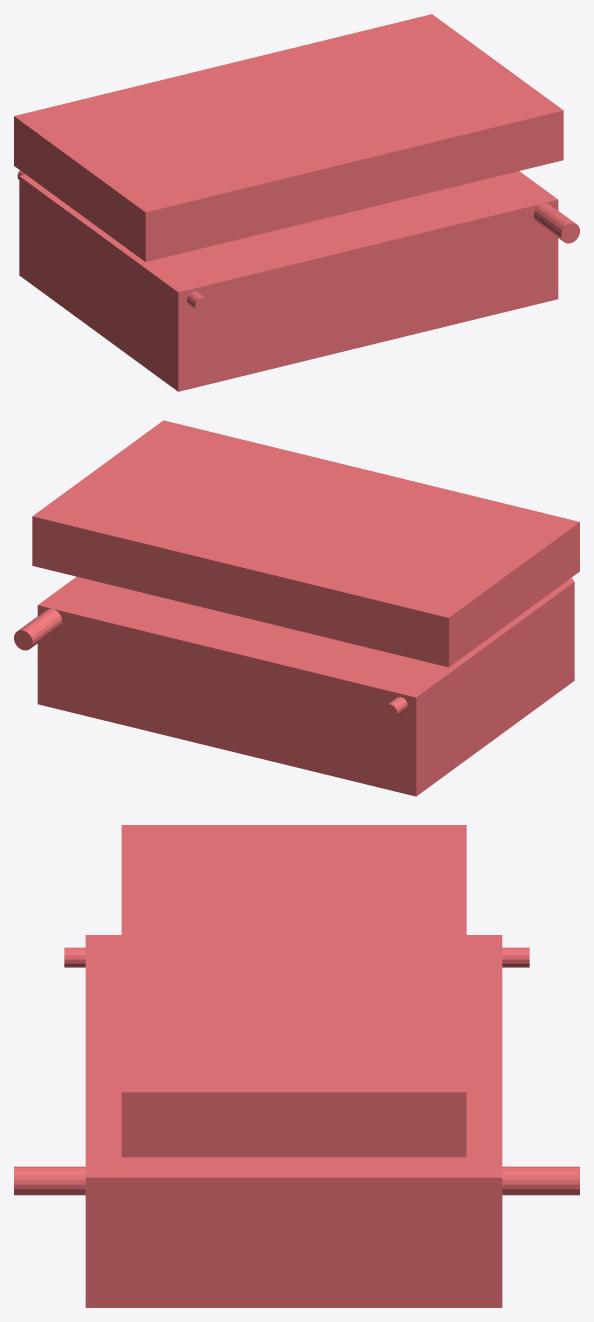
3 renders of one model, top to bottom at view 1: azimuth 30°, elevation 25°; view 2: azimuth 150°, elevation 25°; view 3: azimuth 270°, elevation 25°, orthographic. The views are drawn at different scales.
Parts seen in each view (by area): view 1: cis_droid_factory_sketchfab_001; view 2: cis_droid_factory_sketchfab_001; view 3: cis_droid_factory_sketchfab_001.
Boxes of the visible parts, x1,y1,x2,y2 form: cis_droid_factory_sketchfab_001: (14,14,579,391); cis_droid_factory_sketchfab_001: (14,420,579,796); cis_droid_factory_sketchfab_001: (14,825,579,1307).
Size of the model in its own units: 2.2 by 0.875 by 1.97.
